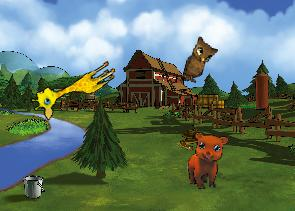bear: (187, 131, 229, 190)
giraffe: (27, 50, 119, 123)
owl: (181, 35, 220, 87)
